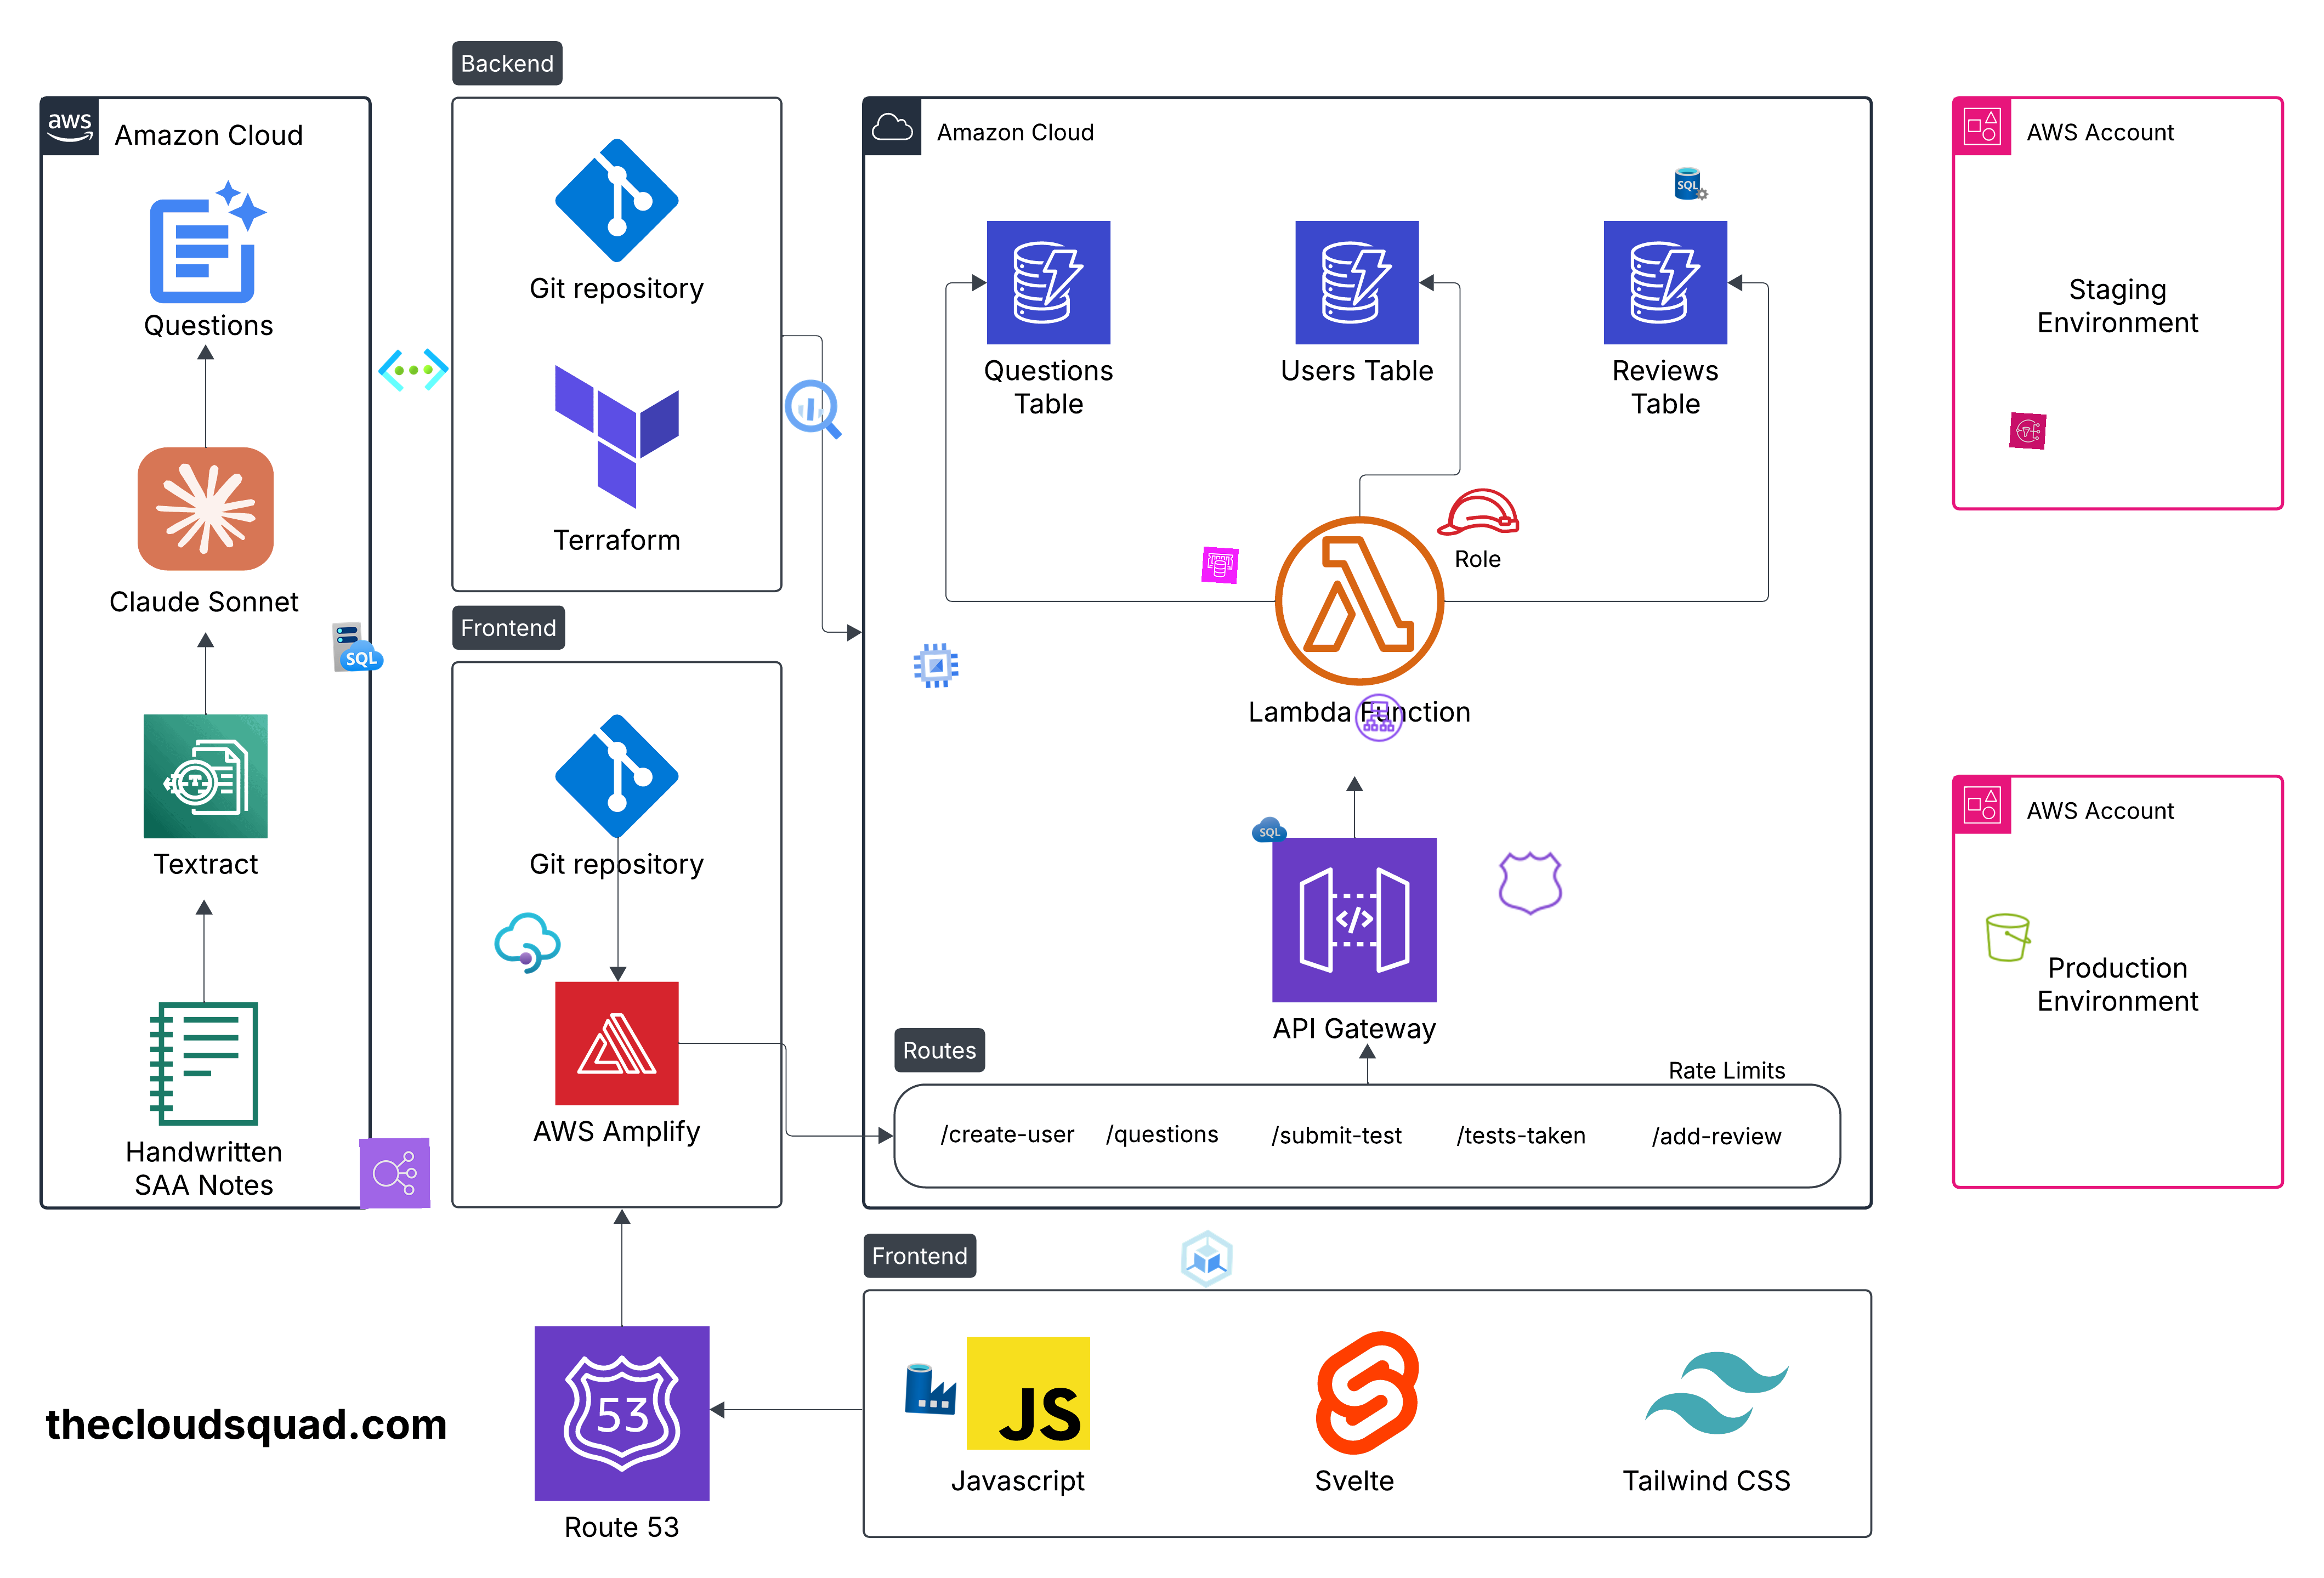aws_amazon_elasticache: (1201, 546, 1239, 585)
aws_amazon_simple_notification_service: (2009, 412, 2046, 449)
aws_elastic_load_balancing: (359, 1138, 431, 1208)
aws_elastic_load_balancing_application_load_balancer: (1352, 690, 1407, 745)
aws_route_53_hosted_zone: (1495, 847, 1567, 919)
aws_simple_storage_service_bucket: (1981, 909, 2035, 965)
azure_api_management_services: (489, 905, 565, 981)
azure_data_factories: (903, 1361, 960, 1416)
azure_sql: (1252, 812, 1287, 849)
azure_sql_managed_instance: (331, 618, 386, 675)
azure_sql_server: (1674, 166, 1710, 203)
azure_virtual_networks: (377, 333, 451, 407)
gcp_bigquery: (776, 372, 850, 446)
gcp_compute_engine: (908, 638, 965, 694)
gcp_google_kubernetes_engine: (1171, 1222, 1243, 1296)
